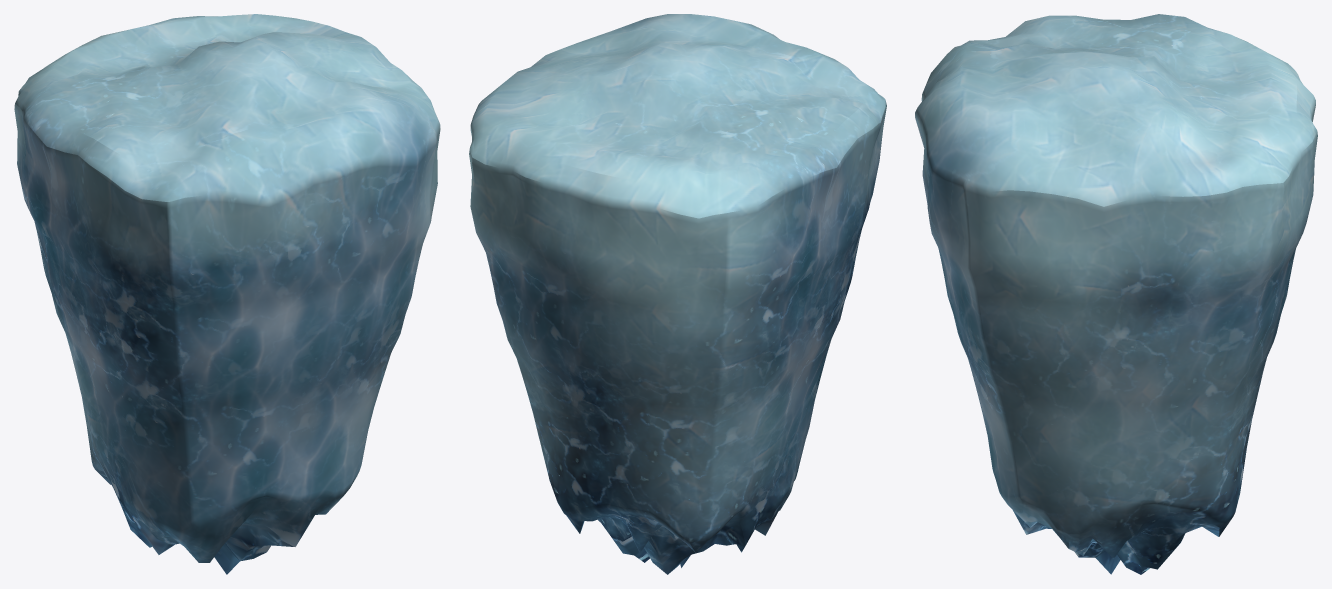
The model's file is Iceberg P2.fbx.
3 renders of one model, left to right at view 1: azimuth 30°, elevation 25°; view 2: azimuth 150°, elevation 25°; view 3: azimuth 270°, elevation 25°, orthographic. The views are drawn at different scales.
Visible parts, largest first — view 1: Iceberg_P2; view 2: Iceberg_P2; view 3: Iceberg_P2.
Part boxes in pixels (box(x1,y1,x2,y2)): Iceberg_P2: box(14, 14, 440, 574); Iceberg_P2: box(469, 14, 886, 574); Iceberg_P2: box(915, 14, 1317, 574).
Bounding box in the file's own units: 25.48 × 36.81 × 25.71.
